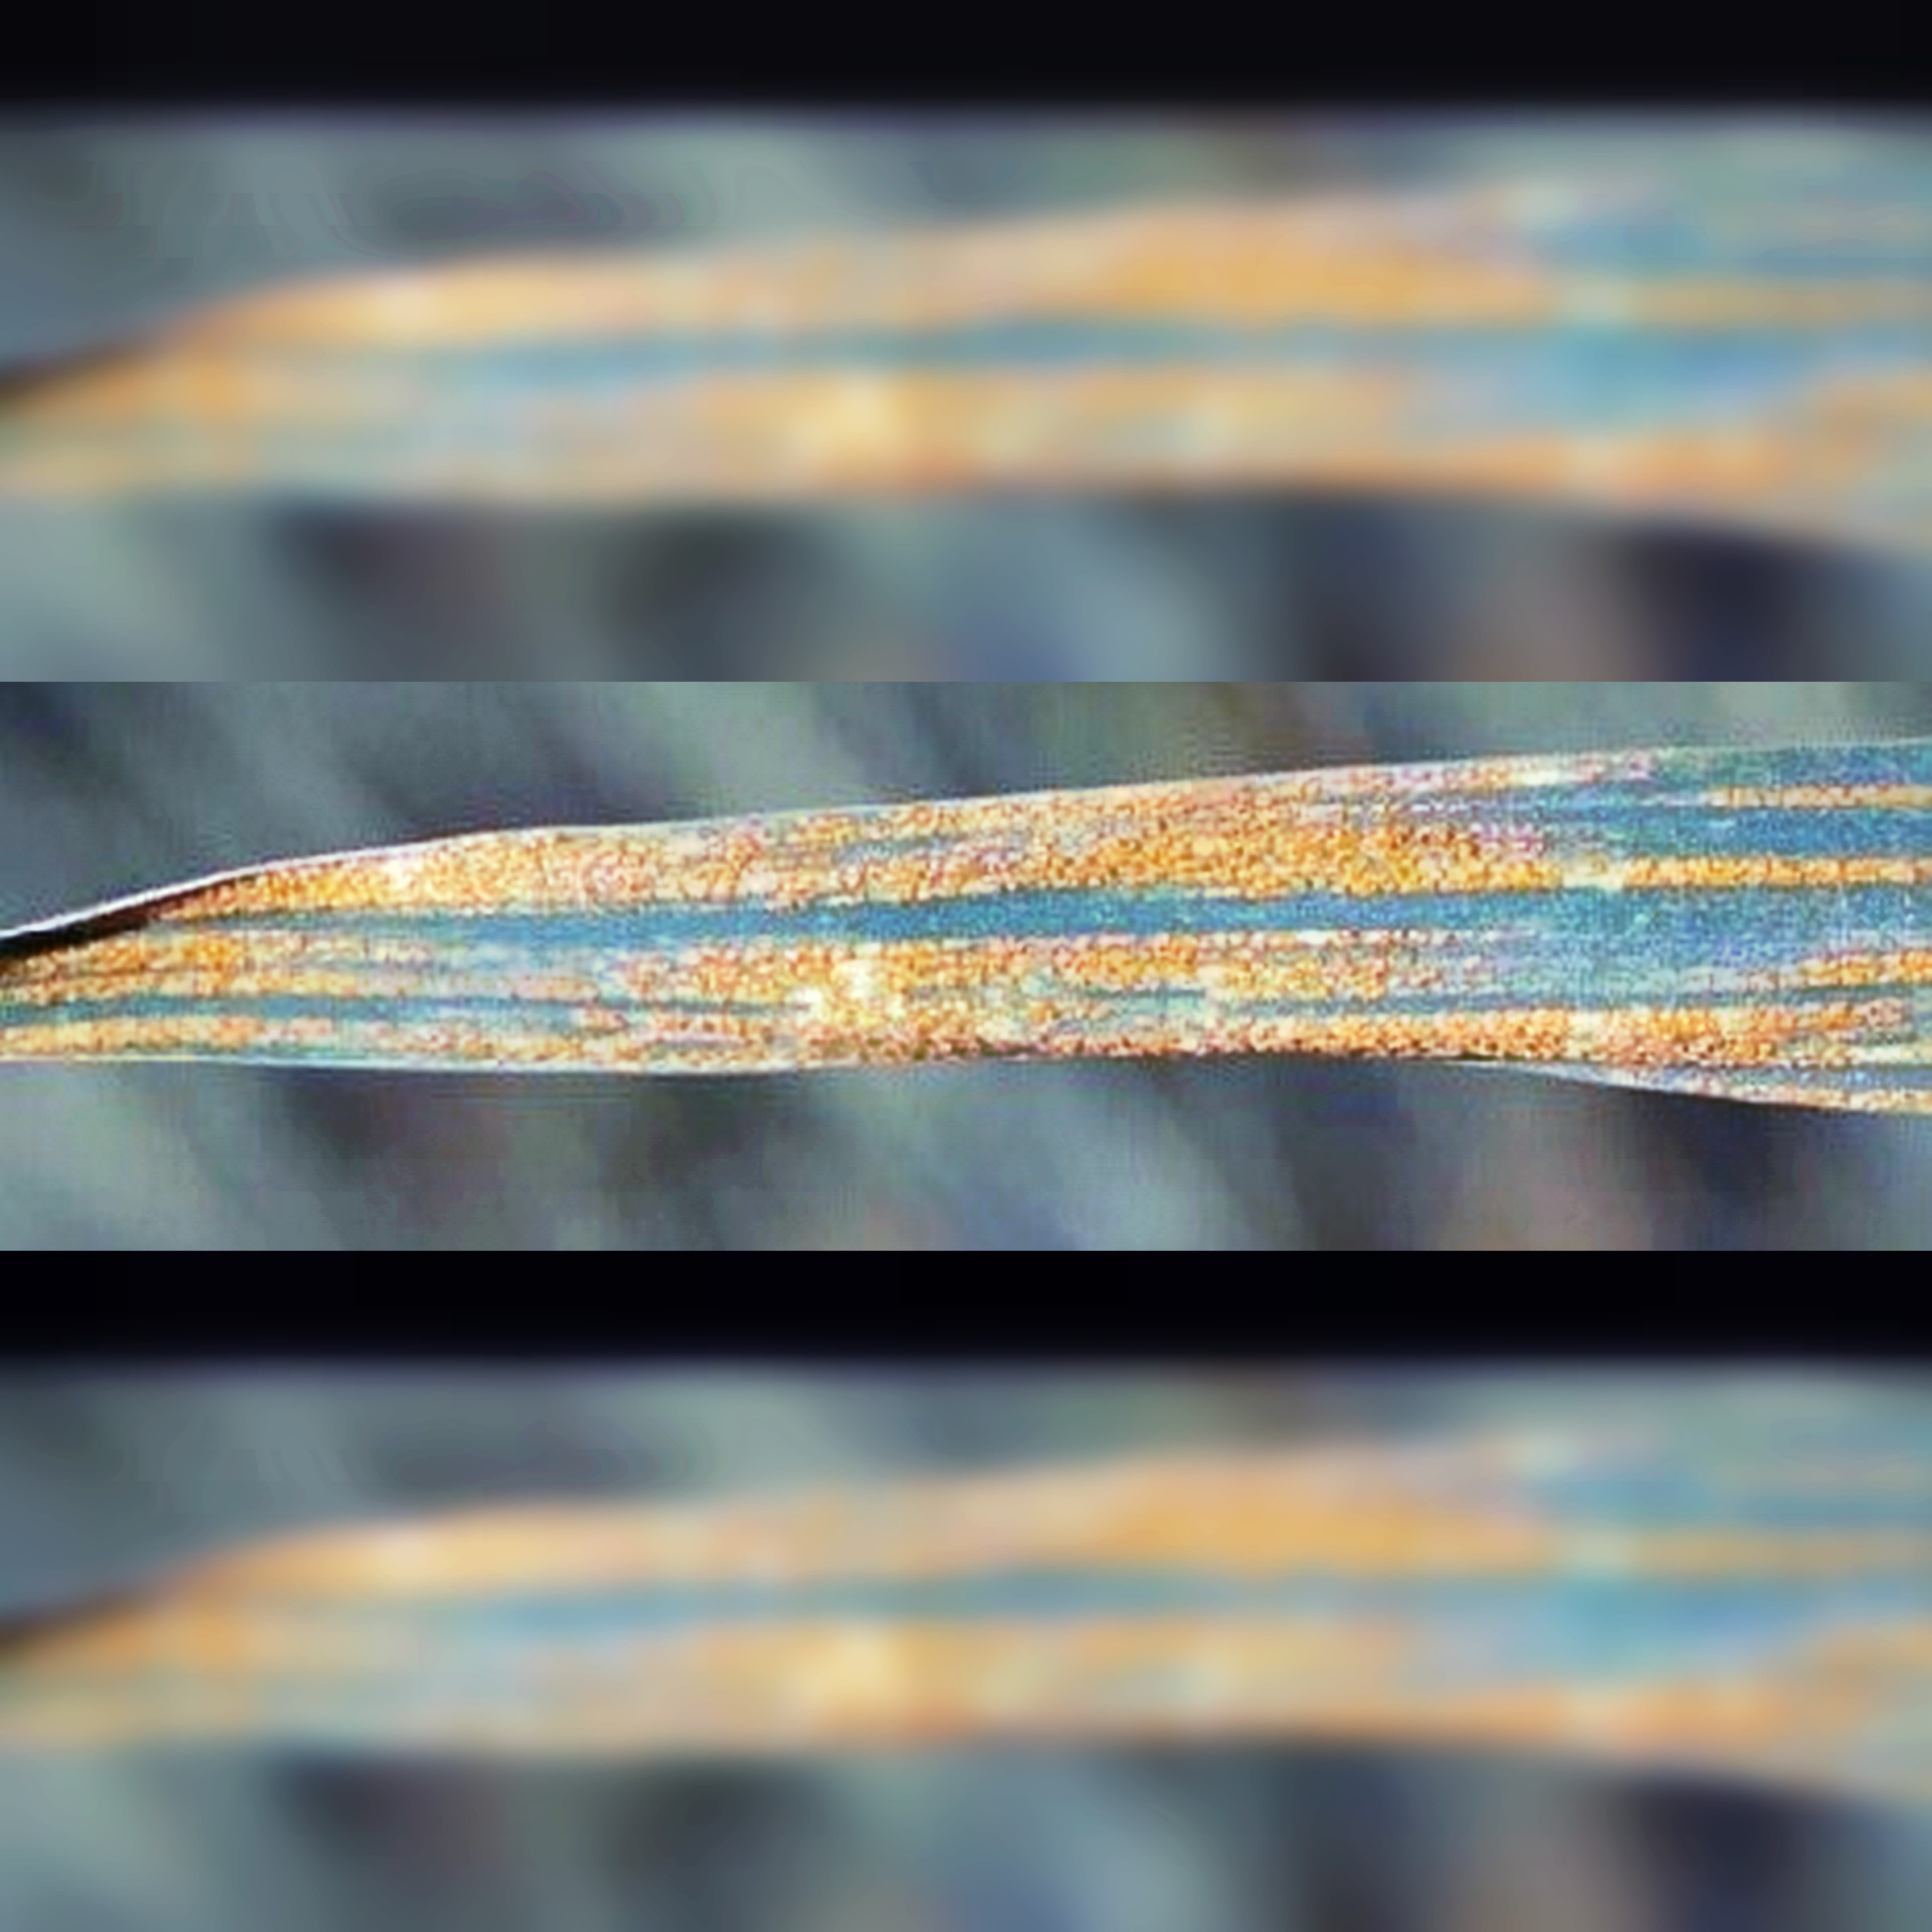Leaf Rust: (76, 786, 1868, 1138)
